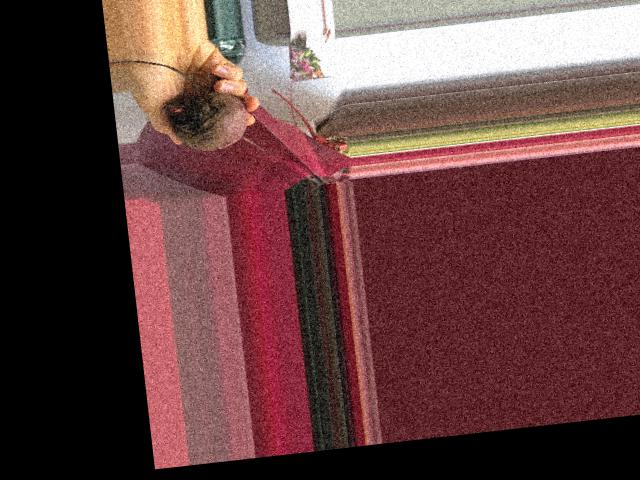beet: (127, 45, 268, 169)
